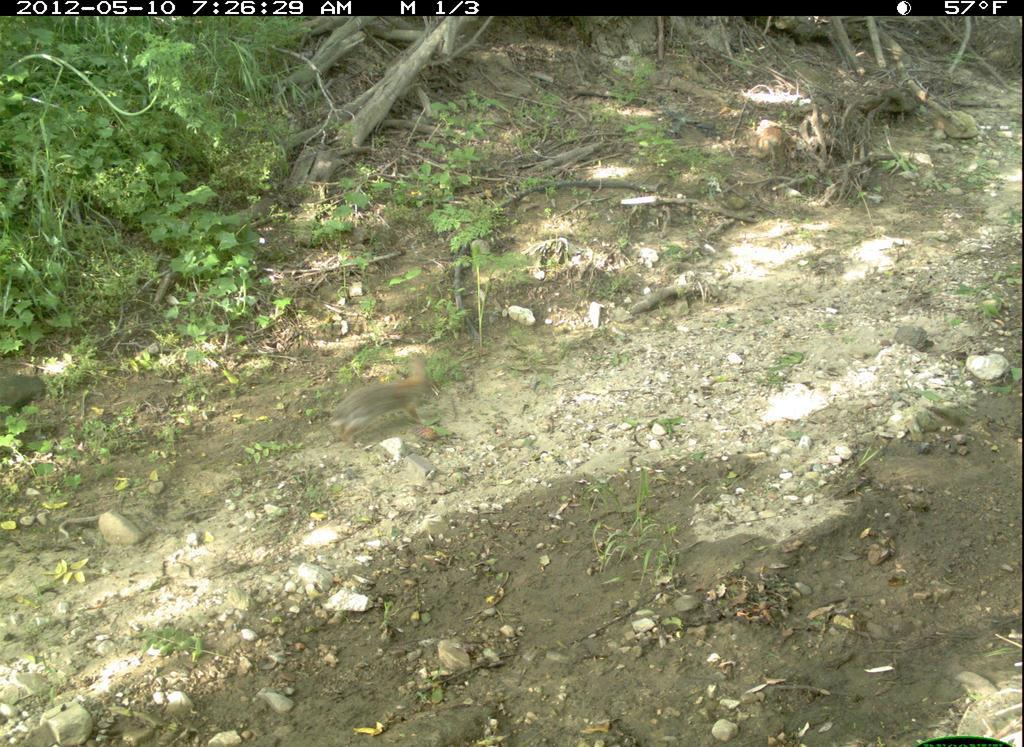rabbit: (314, 349, 447, 452)
